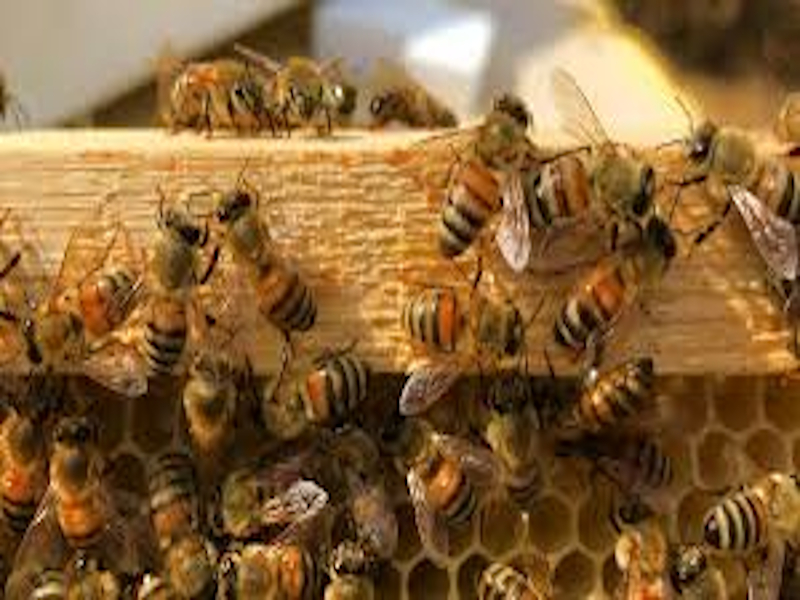abeja: (556, 210, 697, 350), (423, 90, 542, 254), (387, 259, 532, 390), (249, 329, 389, 451), (221, 180, 327, 339), (133, 183, 214, 373), (541, 353, 674, 450)
